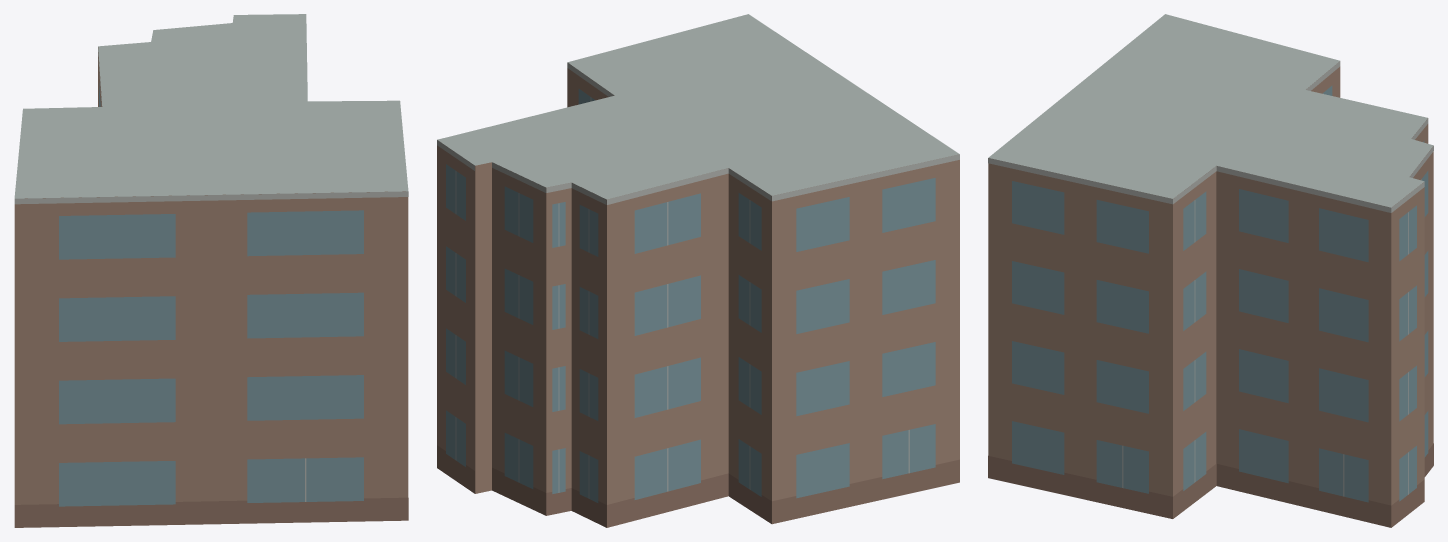
File: survey-upis-32768996.glb
The picture shows the model from 3 angles, left to right: view 1: azimuth 30°, elevation 25°; view 2: azimuth 150°, elevation 25°; view 3: azimuth 270°, elevation 25°; orthographic projection. The views are drawn at different scales.
Parts seen in each view (by area): view 1: survey-upis-32768996.tmp; view 2: survey-upis-32768996.tmp; view 3: survey-upis-32768996.tmp.
Boxes of the visible parts, bbox=[...] form: survey-upis-32768996.tmp: bbox=[14, 14, 408, 527]; survey-upis-32768996.tmp: bbox=[437, 14, 959, 527]; survey-upis-32768996.tmp: bbox=[988, 14, 1433, 527].
Size of the model in its own units: 18.56 by 14.3 by 18.04.
